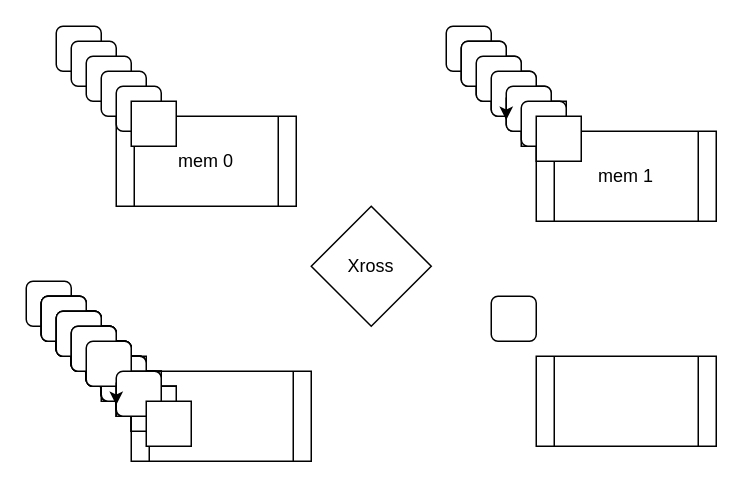
Some shapes in this 743 by 488 pixel diagram are drawn without their labels. The shapes that lost their labels are listed below. From the top down, each one's box as (x1, y1, x2, y2) in pixels, then its label:
(130, 370, 311, 461): mem 2
(535, 355, 716, 446): mem 3
